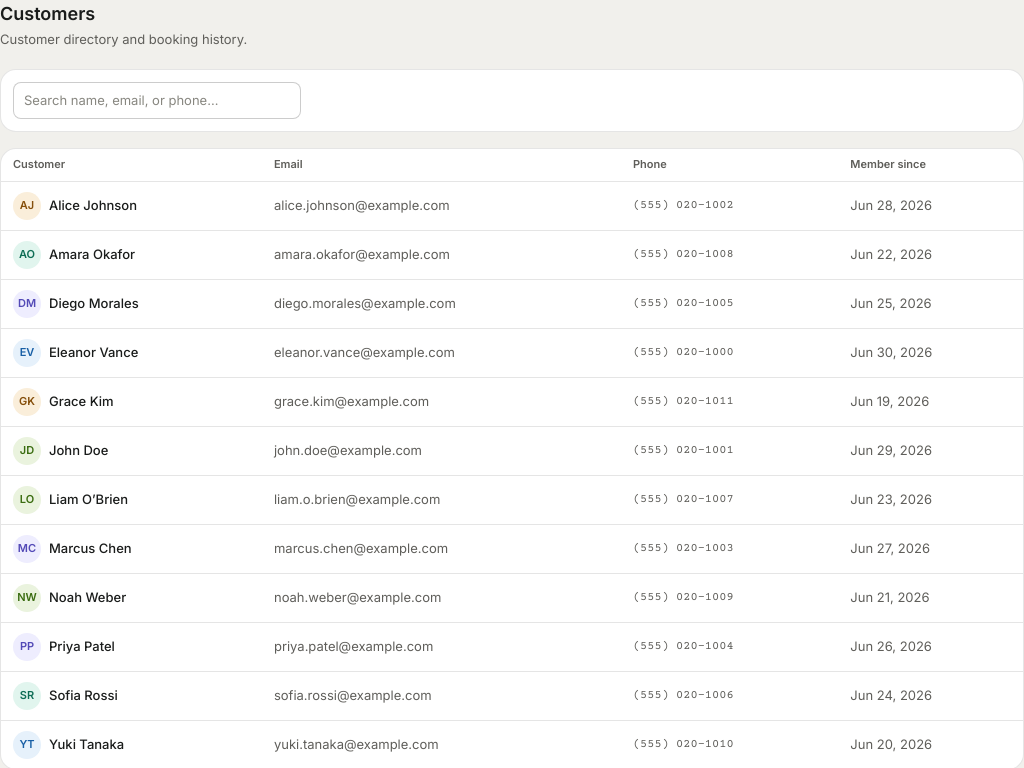
Test: CustomersPage › shows an empty state when nothing matches
The image size is (1024, 768).
Expected: the text "Eleanor Vance" is shown, [49,343,138,362]
Type "Zzz Nobody" into the field with placeholder "Search name, email, or phone…" at (157, 100), box [13,82,301,119]
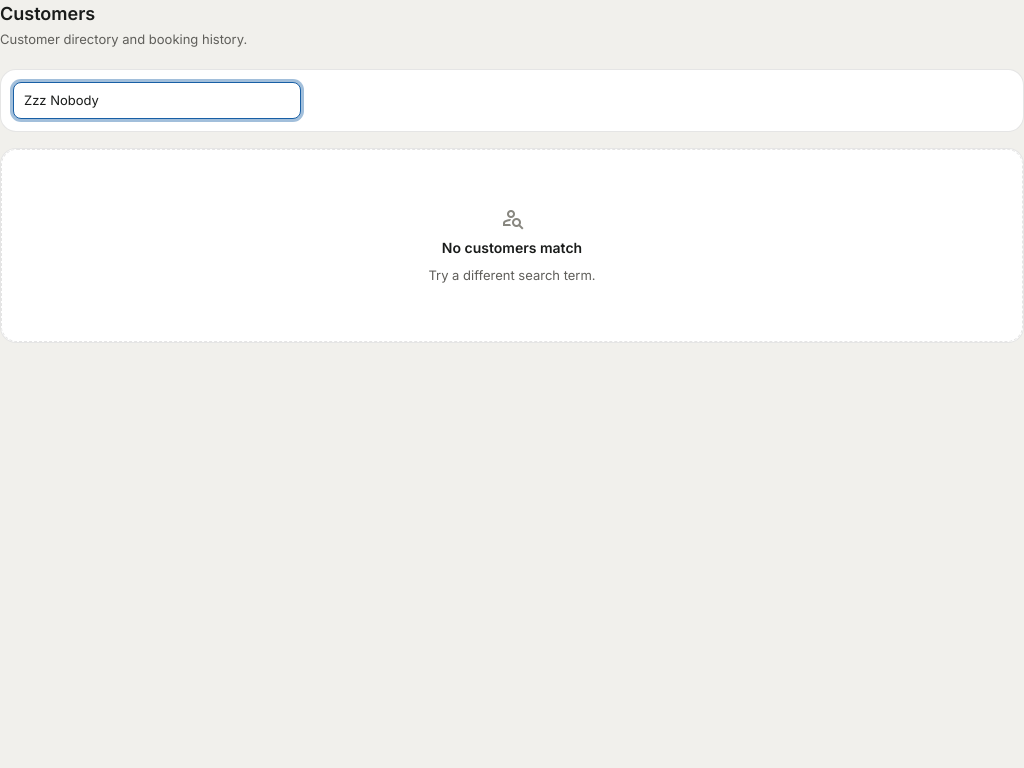
Result: the text "No customers match" is shown at [442,238,582,258]
